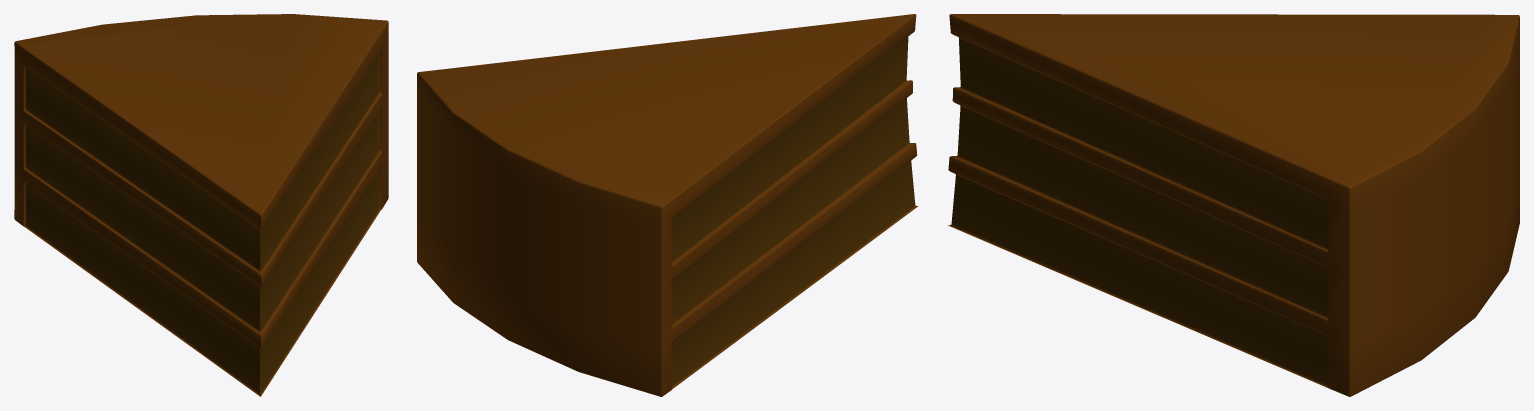
File: торт2.fbx
3 renders of one model, left to right at view 1: azimuth 30°, elevation 25°; view 2: azimuth 150°, elevation 25°; view 3: azimuth 270°, elevation 25°, orthographic. The views are drawn at different scales.
Parts seen in each view (by area): view 1: Circle; view 2: Circle; view 3: Circle.
Part boxes in pixels (bbox=[...]): Circle: bbox=[14, 14, 388, 396]; Circle: bbox=[417, 14, 918, 396]; Circle: bbox=[948, 14, 1519, 396].
Bounding box in the file's own units: 70.57 × 40.61 × 98.65.
